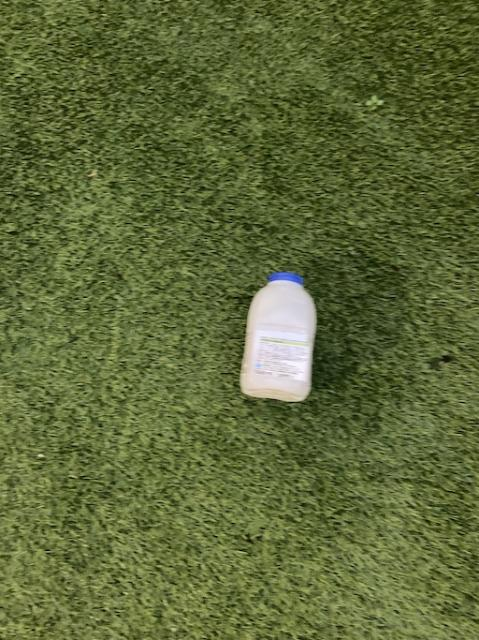plastic: (240, 271, 315, 400)
